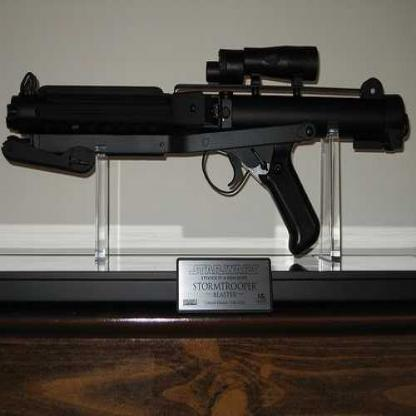Heavy Gun: (16, 49, 404, 248)
